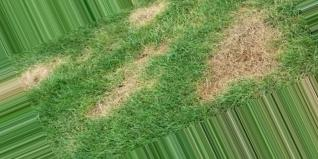patch: (102, 56, 152, 104), (233, 22, 265, 63), (34, 54, 56, 89), (205, 57, 232, 85), (131, 5, 161, 26), (265, 26, 285, 57), (238, 62, 276, 78), (194, 82, 220, 104), (211, 32, 230, 54), (89, 104, 108, 119)
